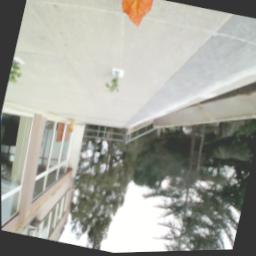herb: (104, 71, 124, 98), (9, 58, 27, 86)
wild: (113, 1, 155, 33)
